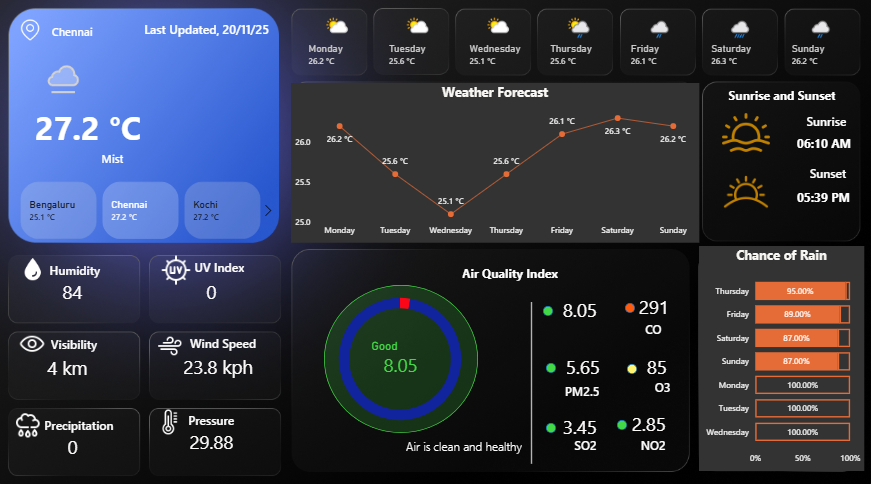

This screenshot's page, from the dashboard's own definition file:
{"tool":"powerbi","page":{"name":"Page 1","canvas":[1280,720],"ordinal":0},"visuals":[{"type":"shape","box":[479.5,420.5,221.8,213.1],"z":0},{"type":"advancedSlicerVisual","fields":{"Values":["Locations.location.name"],"Label":["_Measures.Curr_Temp_C"]},"box":[16.7,267,397.2,93.5],"z":1000},{"type":"shape","box":[31.6,128.4,216.3,128.4],"z":2000},{"type":"shape","box":[31.3,220.7,286.9,36.8],"z":3000},{"type":"shape","box":[31.6,36.9,170.5,36.9],"z":4000},{"type":"shape","box":[202.2,33.4,198.7,36.9],"z":5000},{"type":"image","box":[15.8,33.4,80.9,40.4],"z":6000},{"type":"cardVisual","fields":{"Data":["Min(Current.current.condition.icon)"]},"box":[45.7,73.8,107.3,91.4],"z":7000},{"type":"image","box":[31.6,480,54.5,51],"z":8000},{"type":"shape","box":[56.3,487,96.7,36.9],"z":9000},{"type":"image","box":[22.9,376.3,73.8,44],"z":10000},{"type":"shape","box":[59.8,379.8,96.7,36.9],"z":11000},{"type":"image","box":[230.3,371,72.1,54.5],"z":12000},{"type":"shape","box":[267.3,376.3,96.7,36.9],"z":13000},{"type":"image","box":[22.9,596,59.8,52.7],"z":14000},{"type":"shape","box":[59.8,603.1,116,36.9],"z":15000},{"type":"image","box":[230.3,485.3,54.5,45.7],"z":16000},{"type":"shape","box":[284.8,485.3,96.7,36.9],"z":17000},{"type":"image","box":[230.3,594.3,54.5,45.7],"z":18000},{"type":"shape","box":[253.2,596,96.7,36.9],"z":19000},{"type":"card","fields":{"Values":["Sum(Current.current.humidity)"]},"box":[70.3,399.1,93.2,65.1],"z":20000},{"type":"card","fields":{"Values":["_Measures.Wind_Speed1"]},"box":[270.3,507.6,112.2,66.2],"z":21000},{"type":"card","fields":{"Values":["Sum(Current.current.pressure_in)"]},"box":[270.8,615.4,93.2,65.1],"z":22000},{"type":"card","fields":{"Values":["Sum(Current.current.uv)"]},"box":[270.8,399.1,93.2,65.1],"z":23000},{"type":"card","fields":{"Values":["_Measures.Visibility_km"]},"box":[63.3,508.1,93.2,65.1],"z":24000},{"type":"card","fields":{"Values":["Sum(Current.current.precip_in)"]},"box":[69.9,621.6,93.8,64.4],"z":25000},{"type":"advancedSlicerVisual","fields":{"Values":["Forecast_day.Day_Name"]},"box":[439.5,23.9,818.4,99.3],"z":26000},{"type":"lineChart","title":"Weather Forecast","fields":{"Y":["Sum(Forecast_day.forecast.forecastday.day.avgtemp_c)"],"Category":["Forecast_day.Day_Name"]},"box":[432,129.6,587.5,230.4],"z":27000},{"type":"shape","box":[1053.6,128.5,162.2,36.9],"z":28000},{"type":"shape","box":[1127.5,177.1,129.6,80.6],"z":29000},{"type":"shape","box":[1131.8,263.5,122.4,73.4],"z":30000},{"type":"image","box":[1039.7,234.2,94.9,103],"z":31000},{"type":"image","box":[1039.7,161.5,94.9,78.7],"z":32000},{"type":"shape","box":[1134.6,165.6,96.9,36.3],"z":33000},{"type":"shape","box":[1134.6,240.3,96.9,36.3],"z":34000},{"type":"hundredPercentStackedBarChart","title":"Chance of Rain","fields":{"Y":["Sum(Forecast_day.forecast.forecastday.day.daily_chance_of_rain)","Current.Left_value_Rain"],"Category":["Forecast_day.Day_Name"]},"box":[1029.6,375.8,227.5,319.7],"z":35000},{"type":"shape","box":[653.8,384.5,162.7,37.4],"z":36000},{"type":"card","fields":{"Values":["Sum(Current.current.air_quality.co)"]},"box":[915.4,419.2,77.1,67.5],"z":37000},{"type":"shape","box":[941.1,465.7,24.1,36.9],"z":38000},{"type":"card","fields":{"Values":["Sum(Current.current.air_quality.pm10)"]},"box":[809.4,430.4,77.1,54.6],"z":39000},{"type":"card","fields":{"Values":["Sum(Current.current.air_quality.pm2_5)"]},"box":[814.3,512.3,77.1,54.6],"z":41000},{"type":"shape","box":[814.3,554.1,62.6,36.9],"z":42000},{"type":"card","fields":{"Values":["Sum(Current.current.air_quality.o3)"]},"box":[920.3,512.3,77.1,54.6],"z":43000},{"type":"shape","box":[915.4,549.3,62.6,36.9],"z":44000},{"type":"card","fields":{"Values":["Sum(Current.current.air_quality.so2)"]},"box":[809.4,599,77.1,54.6],"z":45000},{"type":"shape","box":[820.7,632.8,51.4,36.9],"z":46000},{"type":"card","fields":{"Values":["Sum(Current.current.air_quality.no2)"]},"box":[909,594.2,77.1,54.6],"z":47000},{"type":"shape","box":[920.3,632.8,51.4,36.9],"z":48000},{"type":"shape","box":[794.9,450.7,14.4,14.4],"z":49000},{"type":"shape","box":[913,446.4,14.4,14.4],"z":50000},{"type":"shape","box":[799.2,532.8,14.4,14.4],"z":51000},{"type":"shape","box":[915.8,534.2,14.4,14.4],"z":52000},{"type":"shape","box":[799.2,619.2,14.4,14.4],"z":53000},{"type":"shape","box":[901.4,614.9,14.4,14.4],"z":54000},{"type":"shape","box":[756,445,44.6,233.3],"z":55000},{"type":"card","fields":{"Values":["Sum(Current.current.air_quality.pm10)"]},"box":[542.9,498.2,93.6,56.2],"z":56000},{"type":"donutChart","fields":{"Y":["Sum(Current.current.air_quality.pm10)","_Measures.Left_Value_PM10"]},"box":[455,411.8,267.8,230.4],"z":57000},{"type":"shape","box":[427.7,623.5,337,57.6],"z":57001}]}

Visuals, with their boxes in screenshot pixels (x1, y1, x2, y2), scaled from the page's 1280x720 canvas onto the 871x484 screenshot:
shape: [326, 283, 477, 426]
advancedSlicerVisual - Locations.location.name x _Measures.Curr_Temp_C: [11, 179, 282, 242]
shape: [22, 86, 169, 173]
shape: [21, 148, 217, 173]
shape: [22, 25, 138, 50]
shape: [138, 22, 273, 47]
image: [11, 22, 66, 50]
cardVisual - Min(Current.current.condition.icon): [31, 50, 104, 111]
image: [22, 323, 59, 357]
shape: [38, 327, 104, 352]
image: [16, 253, 66, 283]
shape: [41, 255, 106, 280]
image: [157, 249, 206, 286]
shape: [182, 253, 248, 278]
image: [16, 401, 56, 436]
shape: [41, 405, 120, 430]
image: [157, 326, 194, 357]
shape: [194, 326, 260, 351]
image: [157, 400, 194, 430]
shape: [172, 401, 238, 425]
card - Sum(Current.current.humidity): [48, 268, 111, 312]
card - _Measures.Wind_Speed1: [184, 341, 260, 386]
card - Sum(Current.current.pressure_in): [184, 414, 248, 457]
card - Sum(Current.current.uv): [184, 268, 248, 312]
card - _Measures.Visibility_km: [43, 342, 106, 385]
card - Sum(Current.current.precip_in): [48, 418, 111, 461]
advancedSlicerVisual - Forecast_day.Day_Name: [299, 16, 856, 83]
"Weather Forecast" lineChart: [294, 87, 694, 242]
shape: [717, 86, 827, 111]
shape: [767, 119, 855, 173]
shape: [770, 177, 853, 226]
image: [707, 157, 772, 227]
image: [707, 109, 772, 161]
shape: [772, 111, 838, 136]
shape: [772, 162, 838, 186]
"Chance of Rain" hundredPercentStackedBarChart: [701, 253, 855, 468]
shape: [445, 258, 556, 284]
card - Sum(Current.current.air_quality.co): [623, 282, 675, 327]
shape: [640, 313, 657, 338]
card - Sum(Current.current.air_quality.pm10): [551, 289, 603, 326]
card - Sum(Current.current.air_quality.pm2_5): [554, 344, 607, 381]
shape: [554, 372, 597, 397]
card - Sum(Current.current.air_quality.o3): [626, 344, 679, 381]
shape: [623, 369, 665, 394]
card - Sum(Current.current.air_quality.so2): [551, 403, 603, 439]
shape: [558, 425, 593, 450]
card - Sum(Current.current.air_quality.no2): [619, 399, 671, 436]
shape: [626, 425, 661, 450]
shape: [541, 303, 551, 313]
shape: [621, 300, 631, 310]
shape: [544, 358, 554, 368]
shape: [623, 359, 633, 369]
shape: [544, 416, 554, 426]
shape: [613, 413, 623, 423]
shape: [514, 299, 545, 456]
card - Sum(Current.current.air_quality.pm10): [369, 335, 433, 373]
donutChart - Sum(Current.current.air_quality.pm10) x _Measures.Left_Value_PM10: [310, 277, 492, 432]
shape: [291, 419, 520, 458]
